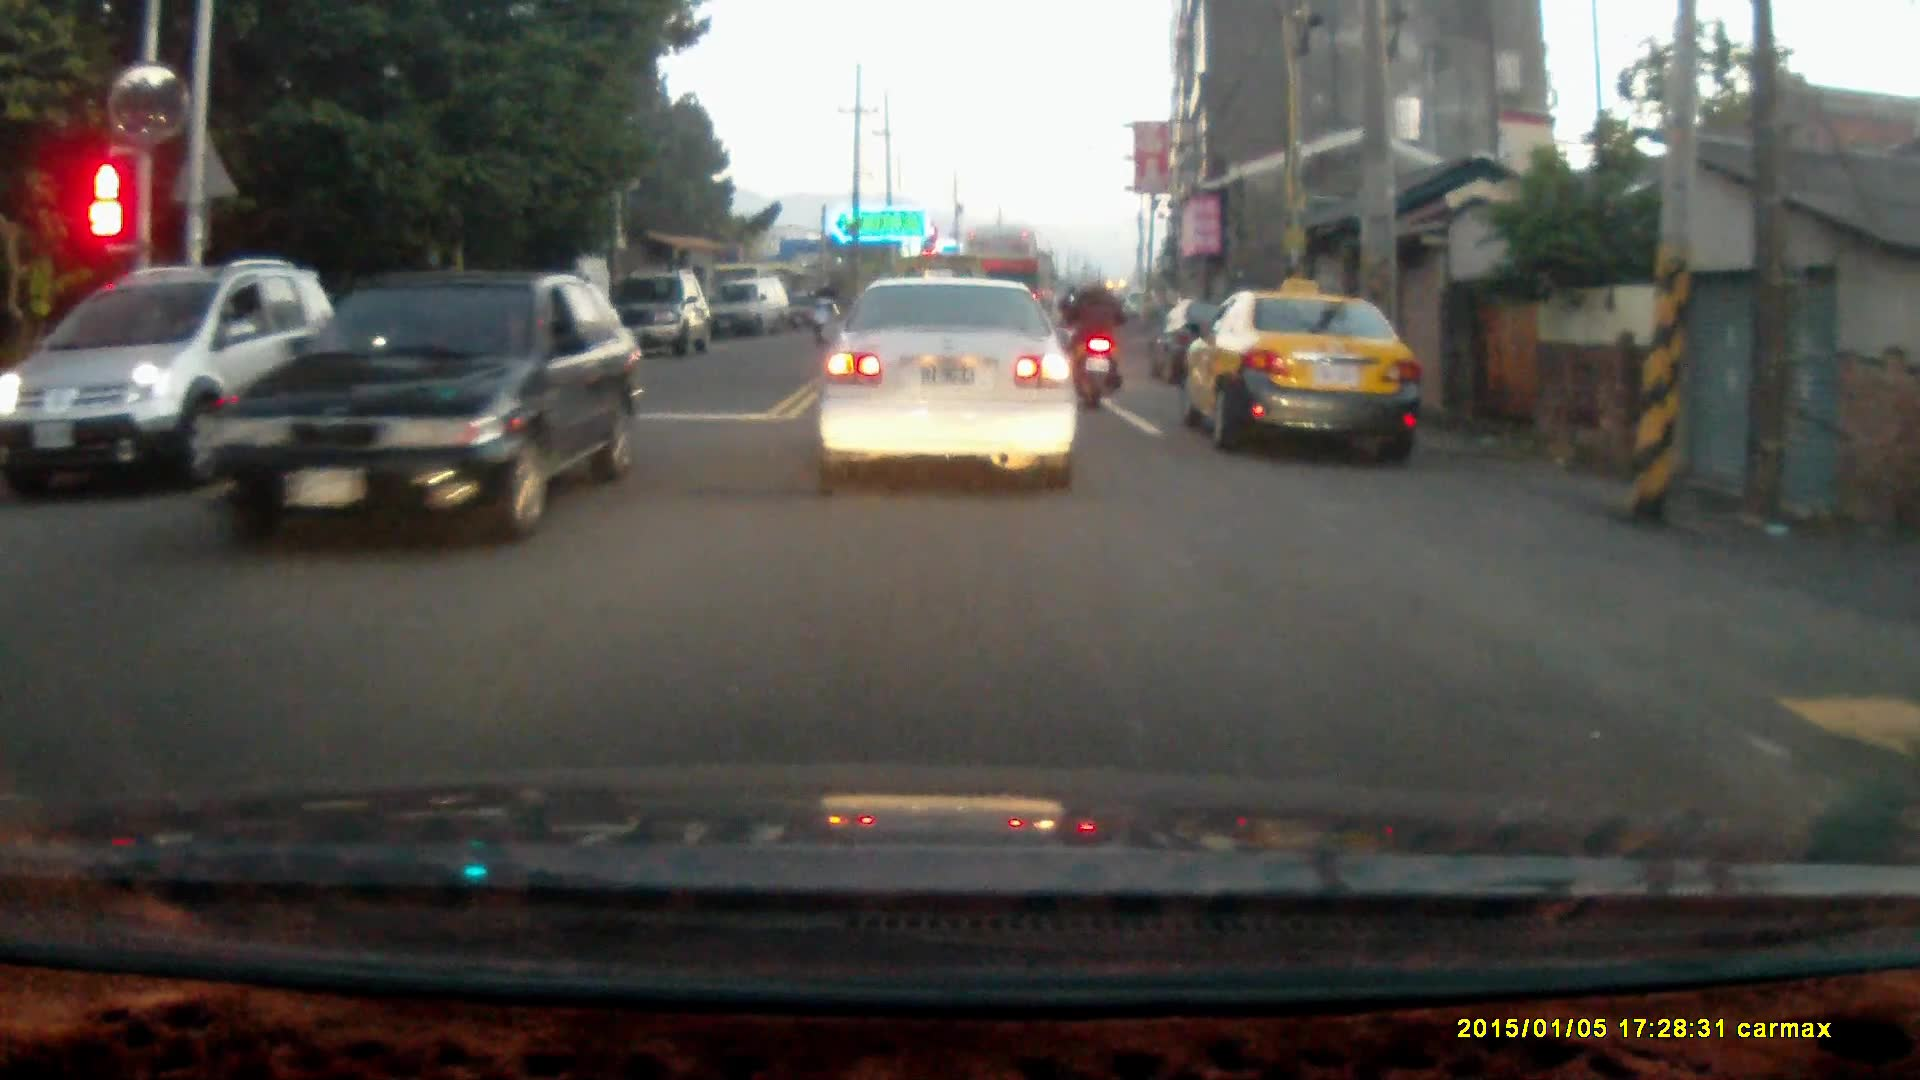rider: (1063, 264, 1127, 408), (805, 275, 839, 345)
vehicle: (175, 267, 612, 545), (15, 265, 342, 499), (817, 275, 1087, 494), (1190, 294, 1426, 462), (617, 264, 711, 359), (717, 282, 794, 341)
